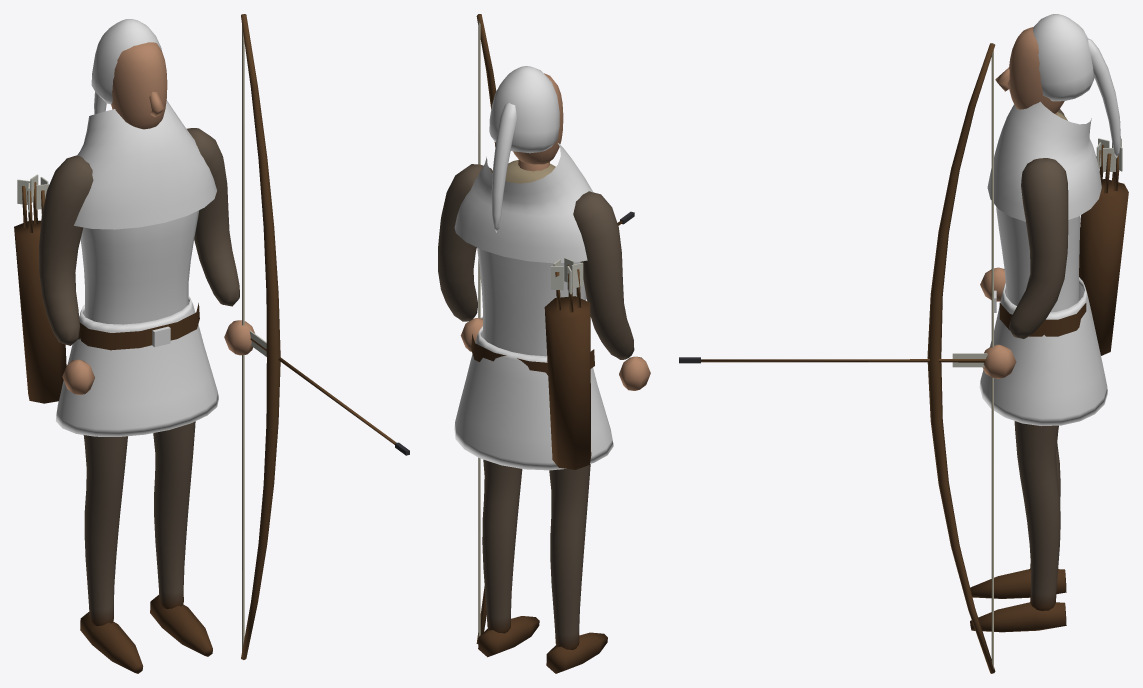
File: archer_0.glb
The picture shows the model from 3 angles, left to right: view 1: azimuth 30°, elevation 25°; view 2: azimuth 150°, elevation 25°; view 3: azimuth 270°, elevation 25°; orthographic projection. The views are drawn at different scales.
Parts seen in each view (by area): view 1: archer_0; view 2: archer_0; view 3: archer_0.
Part boxes in pixels (x1,y1,x2,y2): archer_0: (14, 14, 409, 673); archer_0: (438, 14, 650, 673); archer_0: (679, 14, 1128, 673).
Size of the model in its own units: 0.5764 by 1.9 by 1.23.
